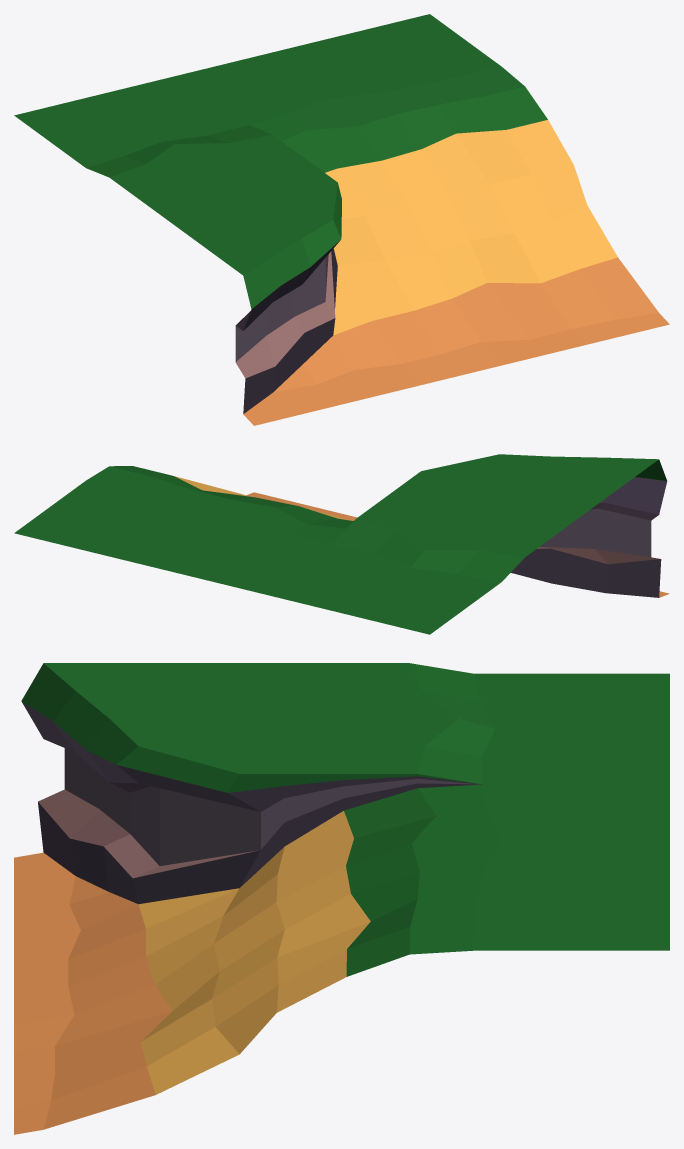
The model's file is Barranco_a_Playa_SubidaI.fbx.
3 renders of one model, top to bottom at view 1: azimuth 30°, elevation 25°; view 2: azimuth 150°, elevation 25°; view 3: azimuth 270°, elevation 25°, orthographic. The views are drawn at different scales.
Parts seen in each view (by area): view 1: Barranco_a_Playa_SubidaI; view 2: Barranco_a_Playa_SubidaI; view 3: Barranco_a_Playa_SubidaI.
Boxes of the visible parts, <box> form: Barranco_a_Playa_SubidaI: <box>14,14,669,425</box>; Barranco_a_Playa_SubidaI: <box>14,454,669,634</box>; Barranco_a_Playa_SubidaI: <box>14,663,669,1134</box>.
Bounding box in the file's own units: 2000 × 654 × 2000.
